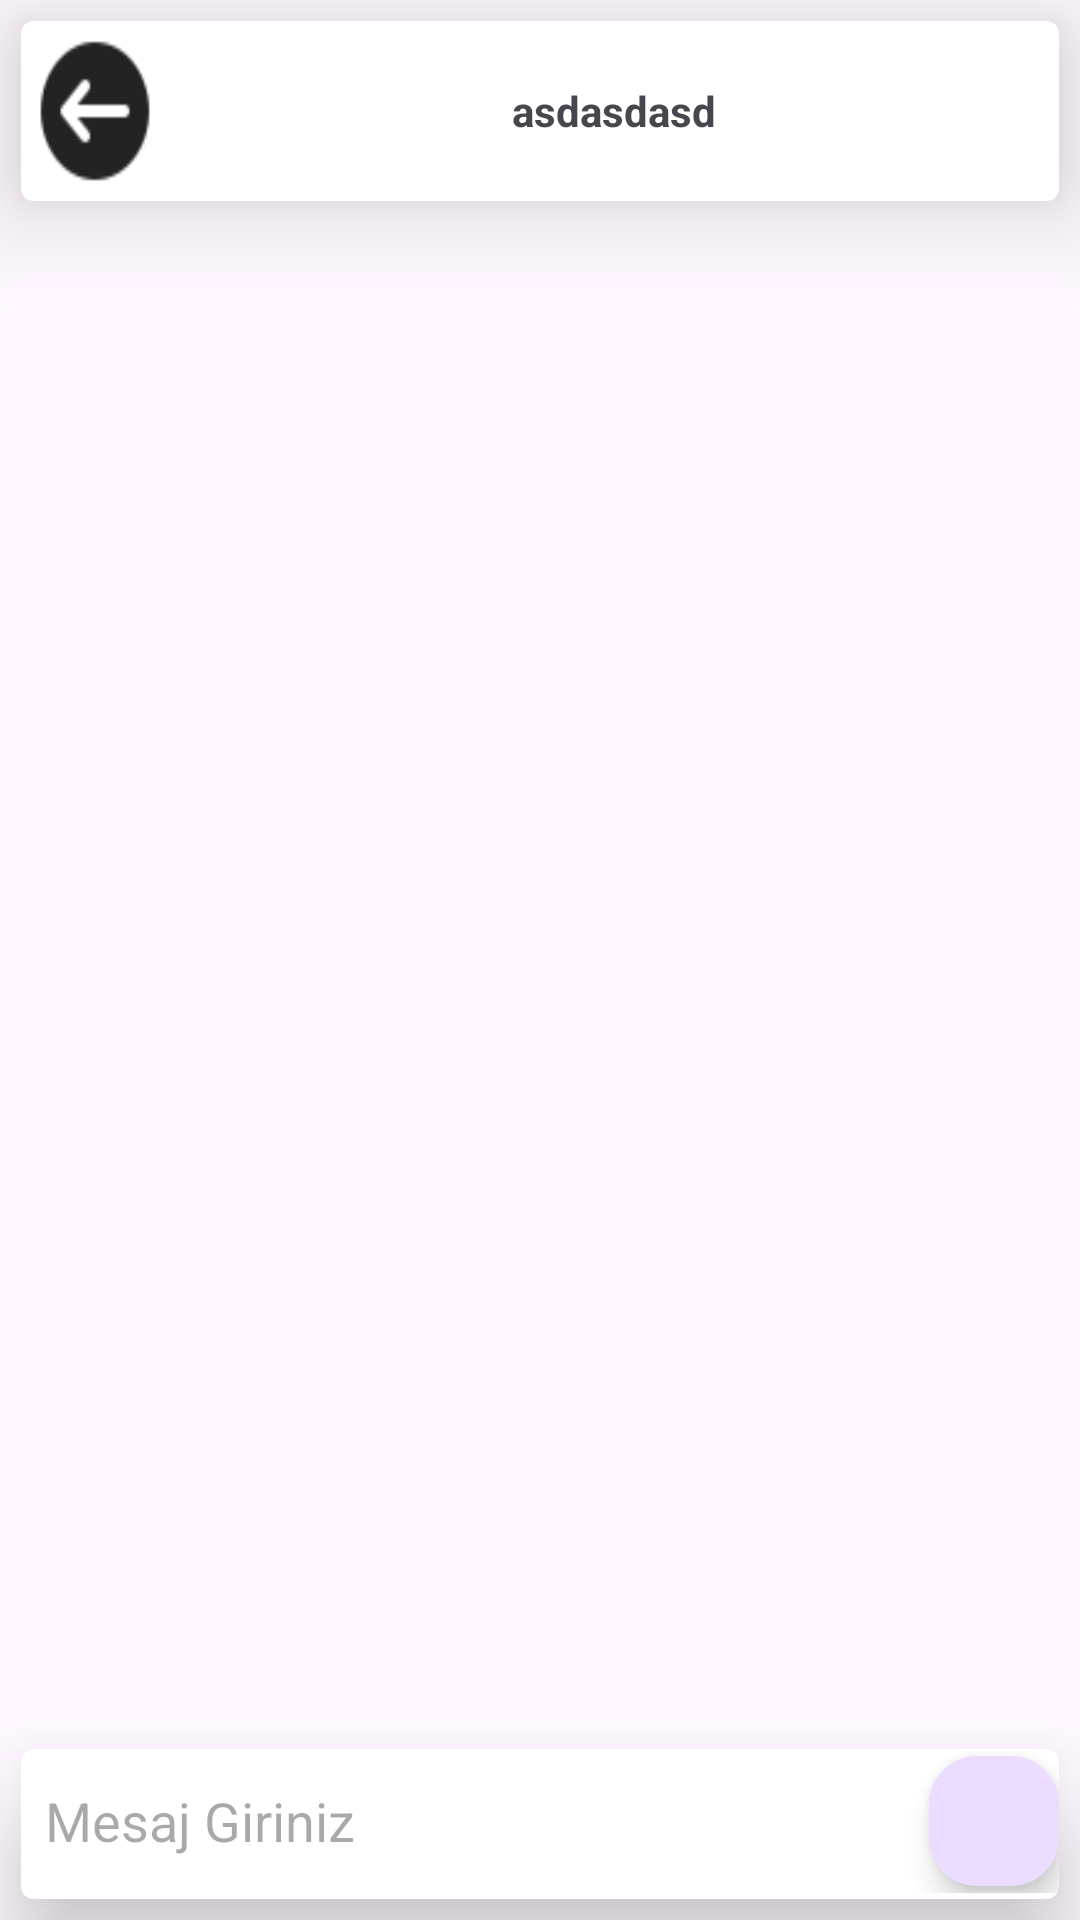

Where to tap for icons on this 1080w x 1920h app screen, as point (x, y):
back arrow: point (95, 111)
